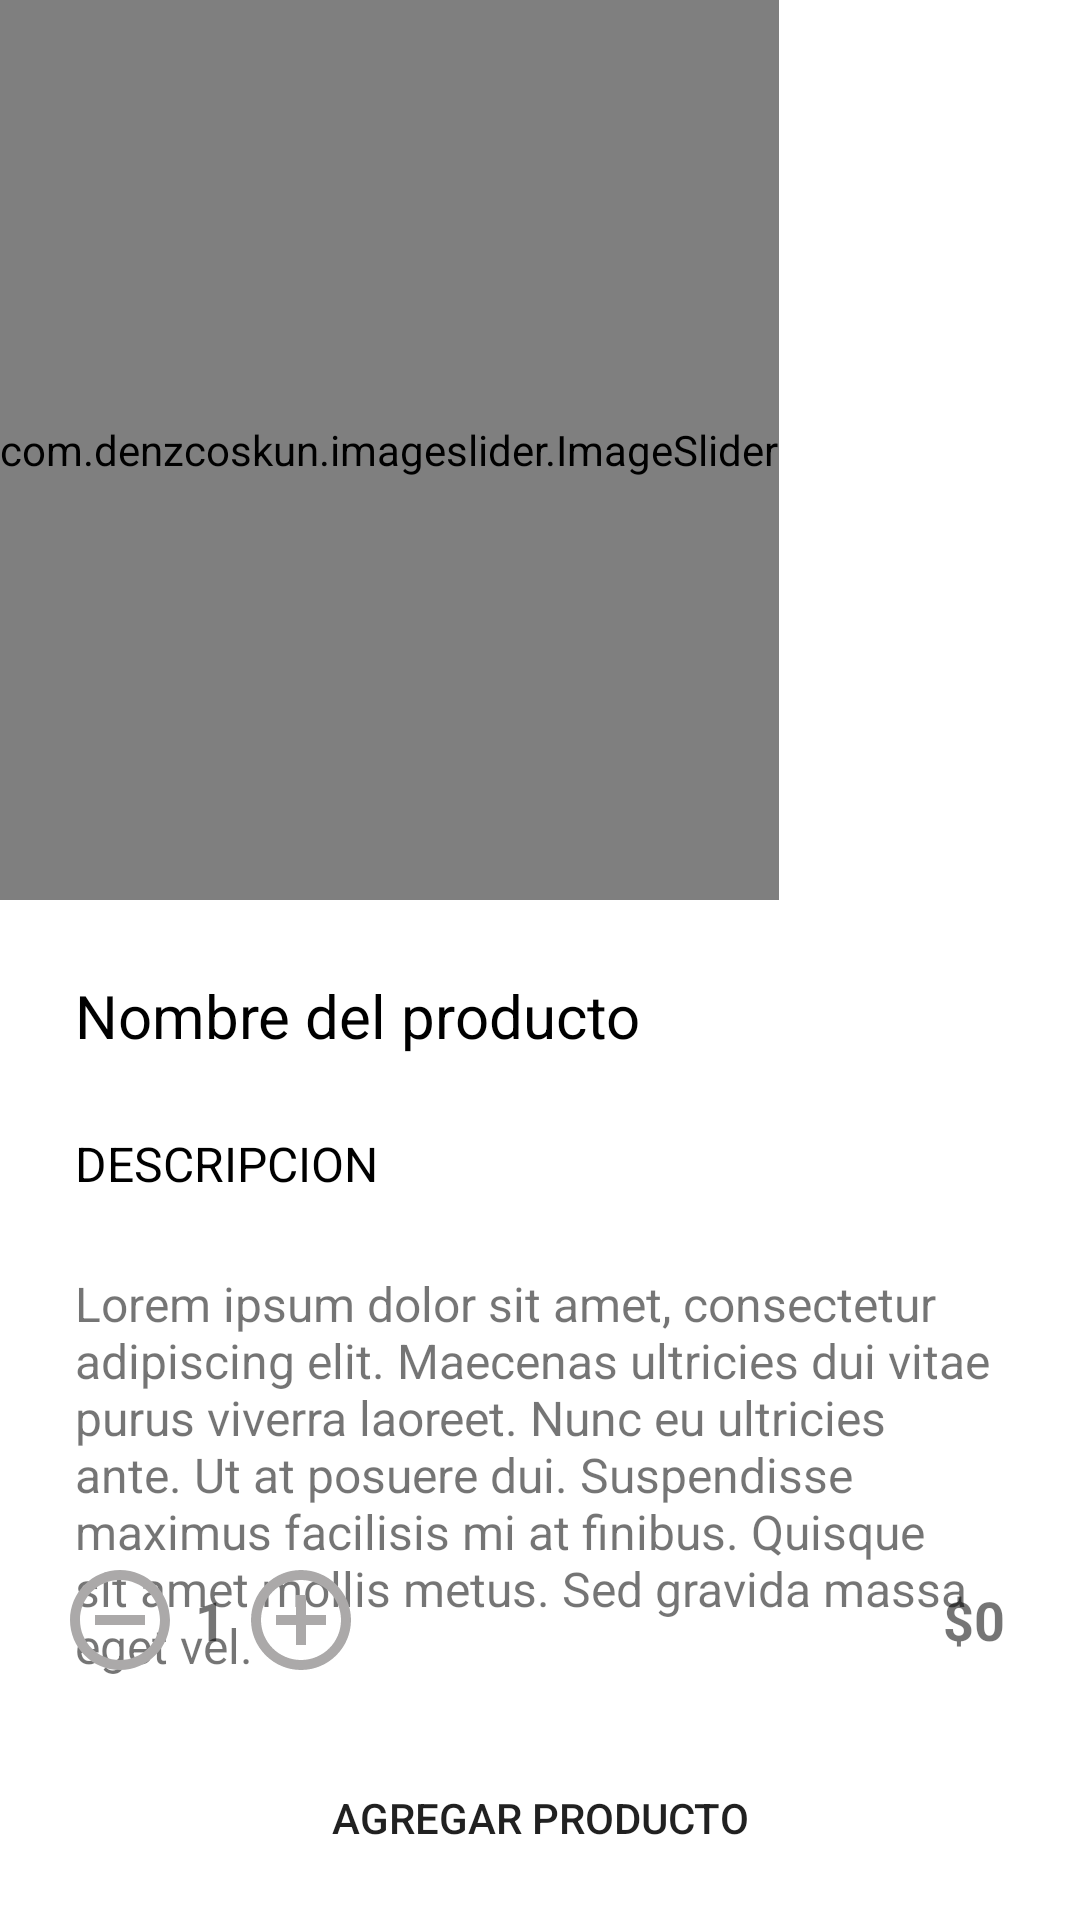

Where icons sit on this 1080px x 1920px app screen, as (x1, y1, x2, y2):
add: (243, 1570, 361, 1670)
remove: (70, 1570, 170, 1674)
